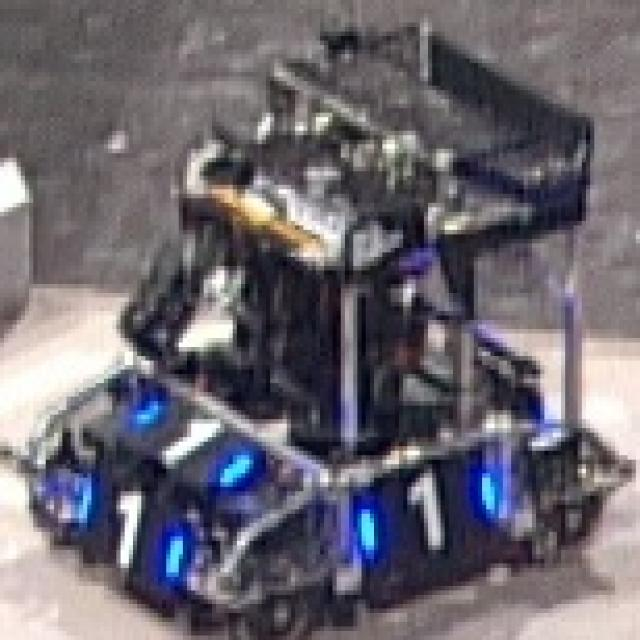B1: (71, 460, 187, 581), (353, 464, 503, 550), (125, 388, 249, 482)
